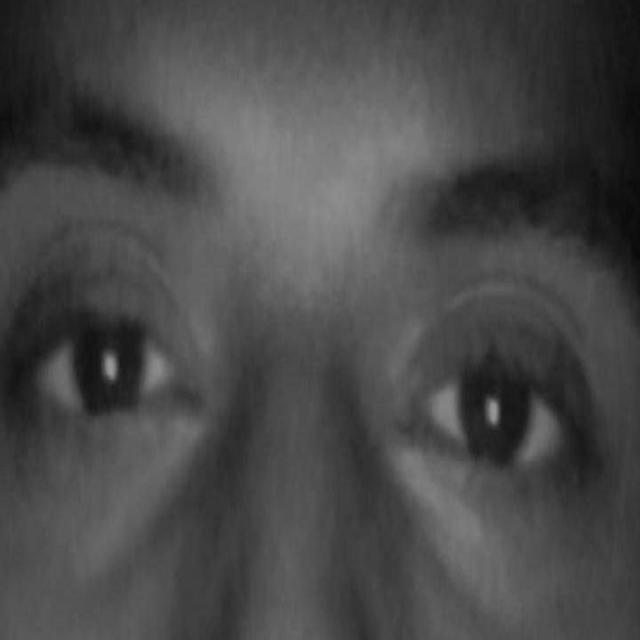real: (0, 162, 627, 566)
